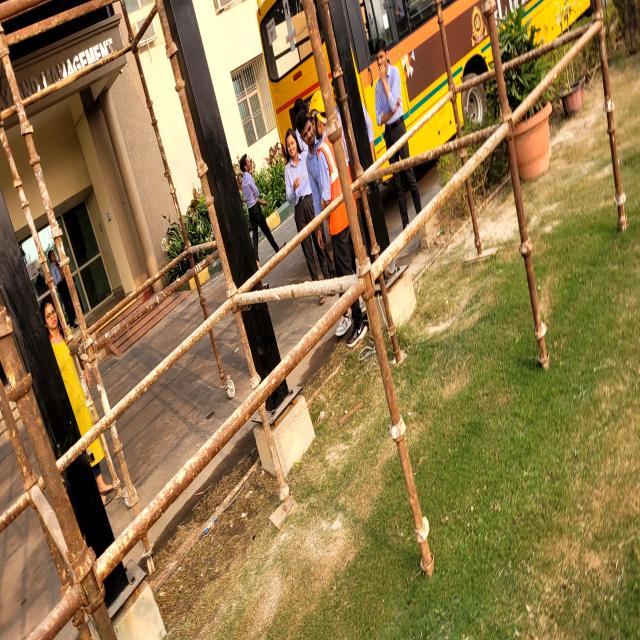safe: (308, 93, 372, 342)
unsafe: (374, 37, 427, 222), (285, 130, 322, 320), (237, 154, 288, 257)
